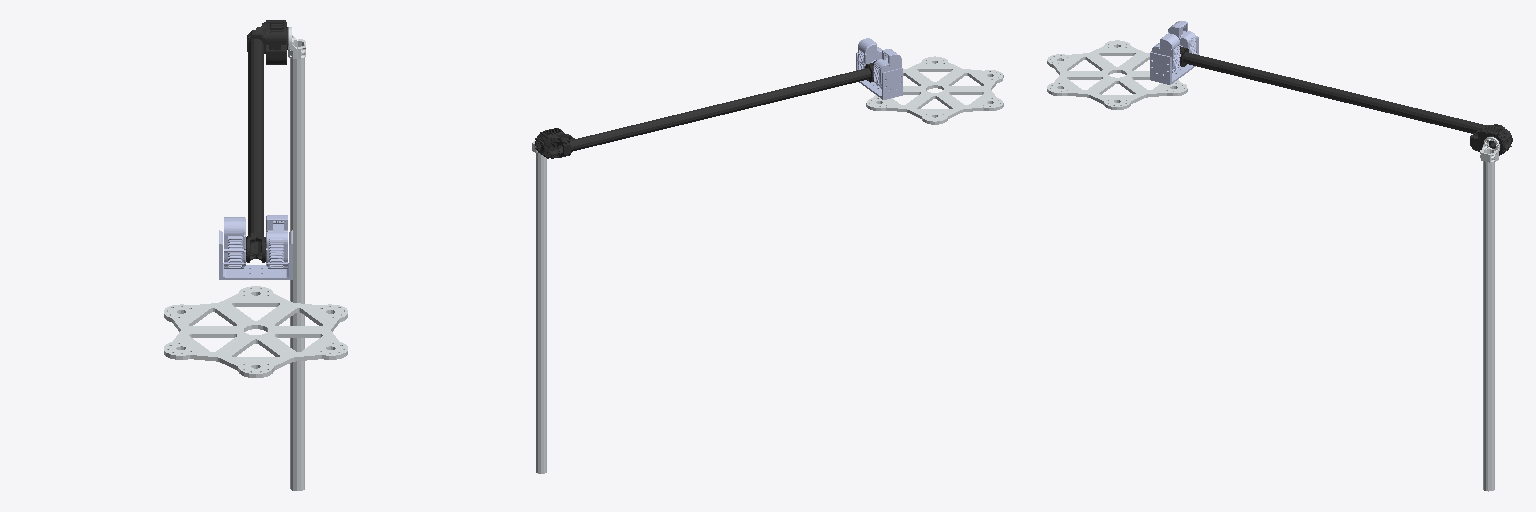
URDF robot description (Titan1):
<robot
  name="Titan1">


  <link
    name="base_link">
    <inertial>
      <origin
        xyz="0 -2.7756E-17 0.0047625"
        rpy="0 0 0" />
      <mass
        value="1.7453" />
      <inertia
        ixx="0"
        ixy="0"
        ixz="0"
        iyy="0"
        iyz="0"
        izz="0" />
    </inertial>
    <visual>
      <origin
        xyz="0 0 0"
        rpy="0 0 0" />
      <geometry>
        <mesh
          filename="package://Titan1/meshes/base_link.STL" />
      </geometry>
      <material
        name="">
        <color
          rgba="0.89804 0.91765 0.92941 1" />
      </material>
    </visual>
    <collision>
      <origin
        xyz="0 0 0"
        rpy="0 0 0" />
      <geometry>
        <mesh
          filename="package://Titan1/meshes/base_link.STL" />
      </geometry>
    </collision>
  </link>


  <link
    name="Link1">
    <inertial>
      <origin
        xyz="-0.013312 -0.0013264 -0.0010606"
        rpy="0 0 0" />
      <mass
        value="0.22519" />
      <inertia
        ixx="2.6809E-05"
        ixy="-4.7744E-06"
        ixz="-5.8893E-07"
        iyy="4.787E-05"
        iyz="-2.9537E-07"
        izz="2.3674E-05" />
    </inertial>
    <visual>
      <origin
        xyz="0 0 0"
        rpy="0 0 0" />
      <geometry>
        <mesh
          filename="package://Titan1/meshes/Link1.STL" />
      </geometry>
      <material
        name="">
        <color
          rgba="0.79216 0.81961 0.93333 1" />
      </material>
    </visual>
    <collision>
      <origin
        xyz="0 0 0"
        rpy="0 0 0" />
      <geometry>
        <mesh
          filename="package://Titan1/meshes/Link1.STL" />
      </geometry>
    </collision>
  </link>
  <joint
    name="L1_0"
    type="fixed">
    <origin
      xyz="0.087988 0.1524 0.032525"
      rpy="0 0 1.0472" />
    <parent
      link="base_link" />
    <child
      link="Link1" />
    <axis
      xyz="0 0 0" />
  </joint>


  <link
    name="Link1_2">
    <inertial>
      <origin
        xyz="-4.8561E-11 -2.5789E-11 0.048171"
        rpy="1.5708 0 0" />
      <mass
        value="0.81692" />
      <inertia
        ixx="0.00032277"
        ixy="-2.6344E-05"
        ixz="1.4129E-12"
        iyy="0.0012074"
        iyz="2.0476E-13"
        izz="0.00089145" />
    </inertial>
    <visual>
      <origin
        xyz="0 0 0"
        rpy="1.5708 0 0" />
      <geometry>
        <mesh
          filename="package://Titan1/meshes/Link1_2.STL" />
      </geometry>
      <material
        name="">
        <color
          rgba="0.79216 0.81961 0.93333 1" />
      </material>
    </visual>
    <collision>
      <origin
        xyz="0 0 0"
        rpy="1.5708 0 0" />
      <geometry>
        <mesh
          filename="package://Titan1/meshes/Link1_2.STL" />
      </geometry>
    </collision>
  </link>
  <joint
    name="L1_1"
    type="continuous">
    <origin
      xyz="0 0 0.02205"
      rpy="0 0 -1.5708" />
    <parent
      link="Link1" />
    <child
      link="Link1_2" />
    <axis
      xyz="0 0 1" />
  </joint>


  <link
    name="Link1_3">
    <inertial>
      <origin
        xyz="0.00043046 0.6759 0.056602"
        rpy="0 0 0" />
      <mass
        value="0.69389" />
      <inertia
        ixx="0.075628"
        ixy="-9.5674E-05"
        ixz="-7.8851E-06"
        iyy="0.0003032"
        iyz="-0.0034479"
        izz="0.075328" />
    </inertial>
    <visual>
      <origin
        xyz="0 0 0"
        rpy="0 -1.5708 -3.1416" />
      <geometry>
        <mesh
          filename="package://Titan1/meshes/Link1_3.STL" />
      </geometry>
      <material
        name="">
        <color
          rgba="0.25098 0.25098 0.25098 1" />
      </material>
    </visual>
    <collision>
      <origin
        xyz="0 0 0"
        rpy="0 0 0" />
      <geometry>
        <mesh
          filename="package://Titan1/meshes/Link1_3.STL" />
      </geometry>
    </collision>
  </link>
  <joint
    name="L1_2"
    type="continuous">
    <origin
      xyz="0 0 0.0514"
      rpy="0 1.5708 0" />
    <parent
      link="Link1_2" />
    <child
      link="Link1_3" />
    <axis
      xyz="0 0 1" />
  </joint>


  <link
    name="Link1_4">
    <inertial>
      <origin
        xyz="3.6557E-09 -0.44069 0.041072"
        rpy="0 0 0" />
      <mass
        value="0.37265" />
      <inertia
        ixx="0.011347"
        ixy="-7.8824E-10"
        ixz="-6.7911E-12"
        iyy="8.2055E-06"
        iyz="0.00015683"
        izz="0.011339" />
    </inertial>
    <visual>
      <origin
        xyz="0 0 0"
        rpy="1.5708 0 1.5708" />
      <geometry>
        <mesh
          filename="package://Titan1/meshes/Link1_4.STL" />
      </geometry>
      <material
        name="">
        <color
          rgba="0.89804 0.91765 0.92941 1" />
      </material>
    </visual>
    <collision>
      <origin
        xyz="0 0 0"
        rpy="0 0 0" />
      <geometry>
        <mesh
          filename="package://Titan1/meshes/Link1_4.STL" />
      </geometry>
    </collision>
  </link>
  <joint
    name="L1_3"
    type="continuous">
    <origin
      xyz="0 1.0255 0.08505"
      rpy="0 0 1.5708" />
    <parent
      link="Link1_3" />
    <child
      link="Link1_4" />
    <axis
      xyz="0 0 1" />
    <limit
      effort="0"
      velocity="0" />
  </joint>
</robot>

--- Render facts (derived) ---
Views: 3 orthographic renders of the robot side by side, from view 1: azimuth 30°, elevation 25°; view 2: azimuth 150°, elevation 25°; view 3: azimuth 270°, elevation 25°.
Model Titan1 with 5 links and 4 joints (3 continuous, 1 fixed), rooted at base_link, posed all joints at 0.
Visible links, largest first — view 1: base_link, Link1_4, Link1_3, Link1_2; view 2: Link1_3, base_link, Link1_4, Link1_2; view 3: base_link, Link1_3, Link1_4, Link1_2.
Link boxes in pixels (left/top/right/bottom): base_link: left=164, top=286, right=347, bottom=377; Link1_4: left=288, top=27, right=305, bottom=490; Link1_3: left=246, top=20, right=287, bottom=262; Link1_2: left=219, top=215, right=292, bottom=279; Link1_3: left=535, top=60, right=876, bottom=158; base_link: left=866, top=56, right=1003, bottom=124; Link1_4: left=532, top=141, right=546, bottom=473; Link1_2: left=856, top=38, right=902, bottom=99; base_link: left=1047, top=40, right=1187, bottom=109; Link1_3: left=1180, top=46, right=1512, bottom=155; Link1_4: left=1480, top=137, right=1499, bottom=491; Link1_2: left=1150, top=21, right=1198, bottom=84.
Size in the robot's own frame: 0.909 by 1.25 by 1.09 metres.
4 mesh visuals loaded from 5 distinct referenced files (4 binary STL); not drawn: 1 (reference not matched to a file when rendering).